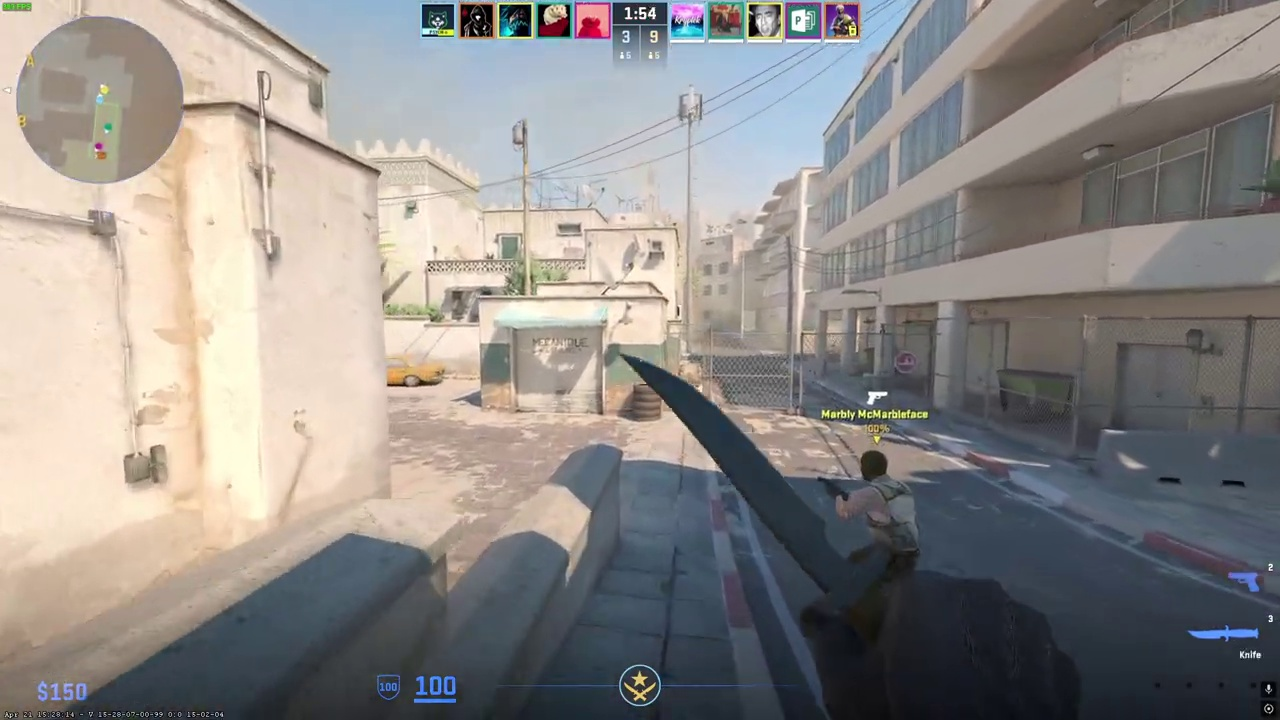Terrorist: (842, 450, 920, 575)
